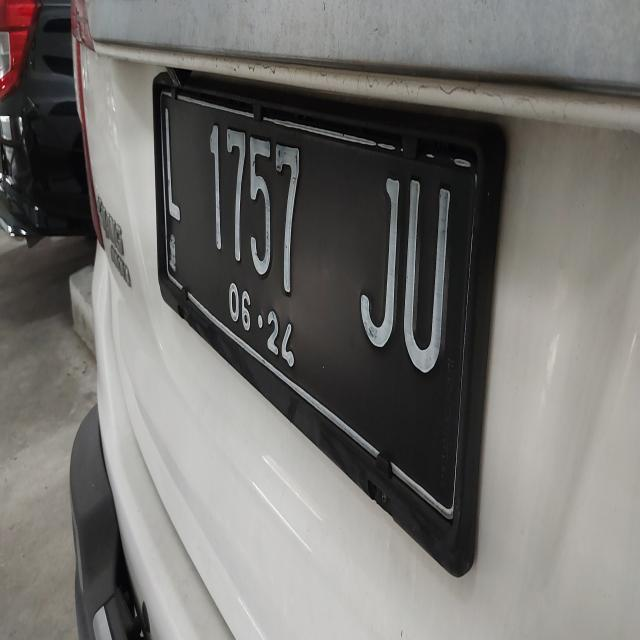1: (206, 108, 223, 259)
5: (248, 122, 276, 286)
7: (274, 136, 304, 308), (224, 116, 247, 266)
J: (359, 164, 400, 346)
L: (157, 103, 186, 224)
U: (402, 177, 455, 377)
